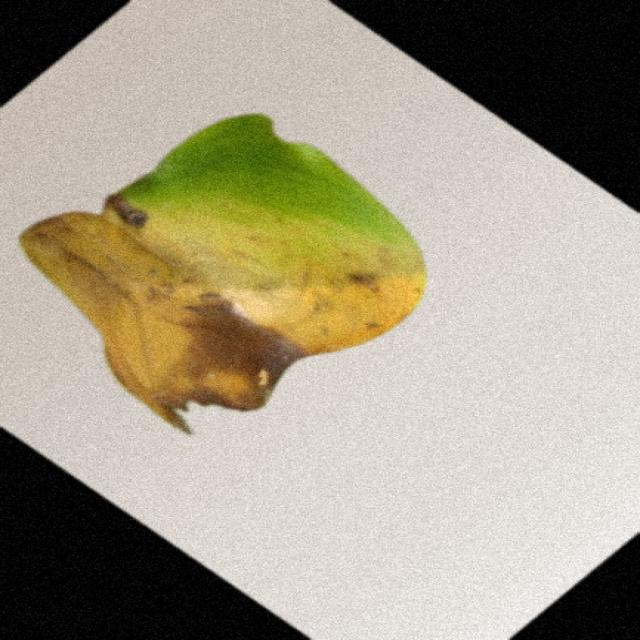daun berpenyakit kuning: (20, 115, 425, 432)
